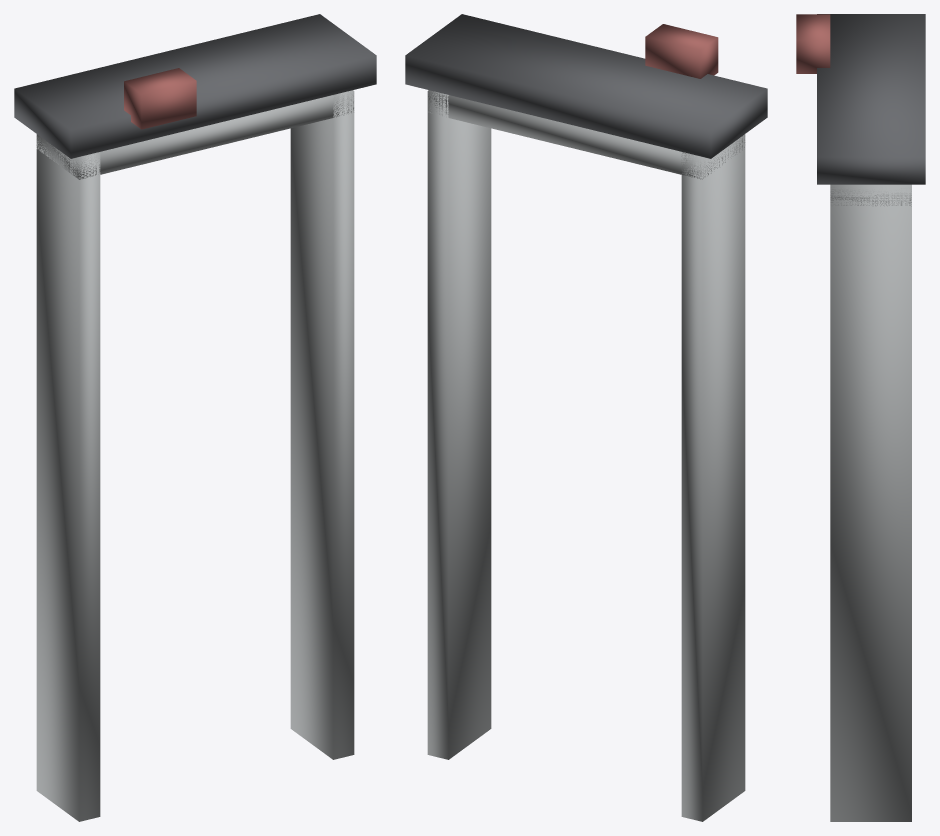
The model's file is doorway_fire_rated_w76_h200_d24.glb.
3 renders of one model, left to right at view 1: azimuth 30°, elevation 25°; view 2: azimuth 150°, elevation 25°; view 3: azimuth 270°, elevation 25°, orthographic. The views are drawn at different scales.
Visible parts, largest first — view 1: world; view 2: world; view 3: world.
Part boxes in pixels (x1=…): world: x1=14, y1=14, x2=376, y2=821; world: x1=405, y1=14, x2=767, y2=821; world: x1=796, y1=14, x2=925, y2=821.
Size of the model in its own units: 0.9968 by 2.27 by 0.38.
